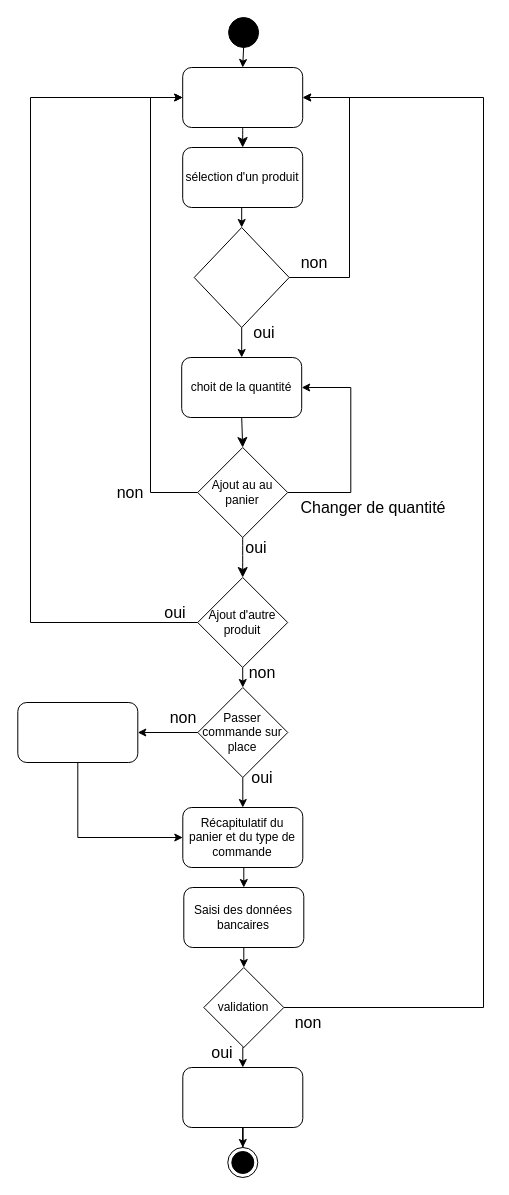
The diagram is 509 pixels wide and 1195 high, and some of its shapes have lost their labels. Here are the shapes that lost their labels. From the top down, the centre of each, then its label:
At (x=242, y=97): "navigation".
At (x=241, y=277): "Connection".
At (x=77, y=732): "Passer commande à en porter".
At (x=242, y=1097): "Commande enregistrer".
